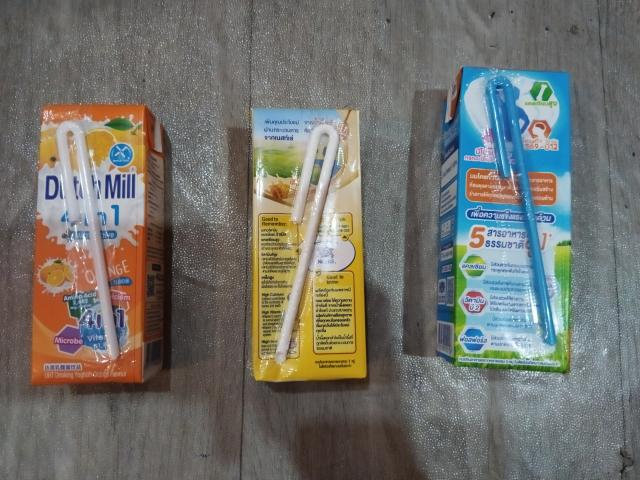drink_box: (440, 64, 575, 379), (31, 99, 173, 386), (246, 105, 374, 387)
